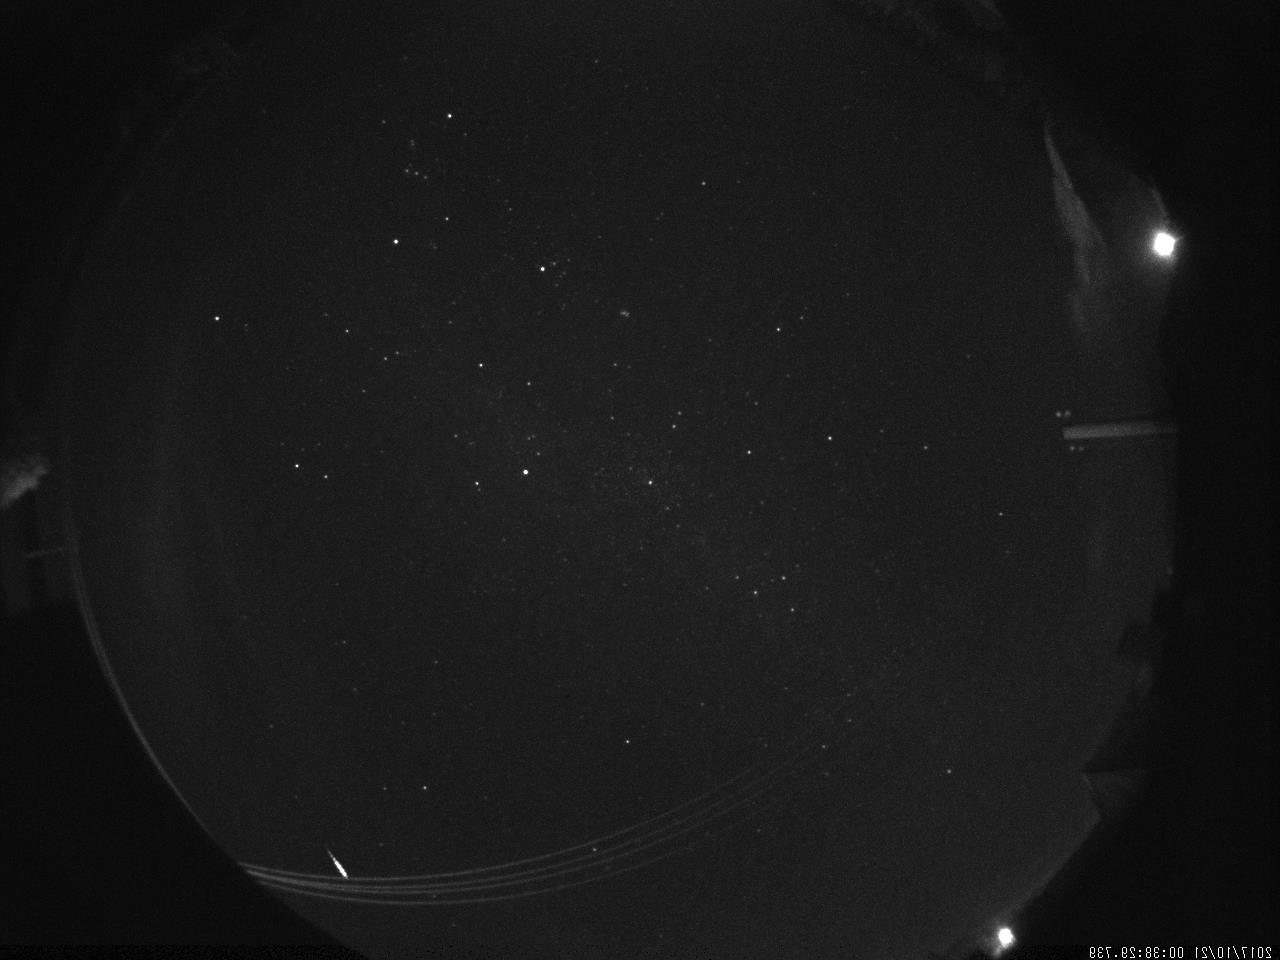meteor: (317, 840, 358, 888)
